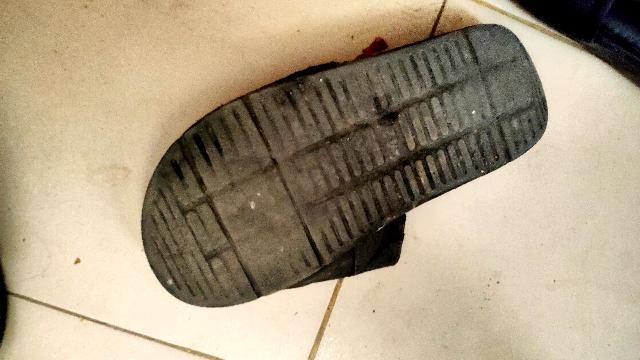sandal: (139, 18, 562, 312)
